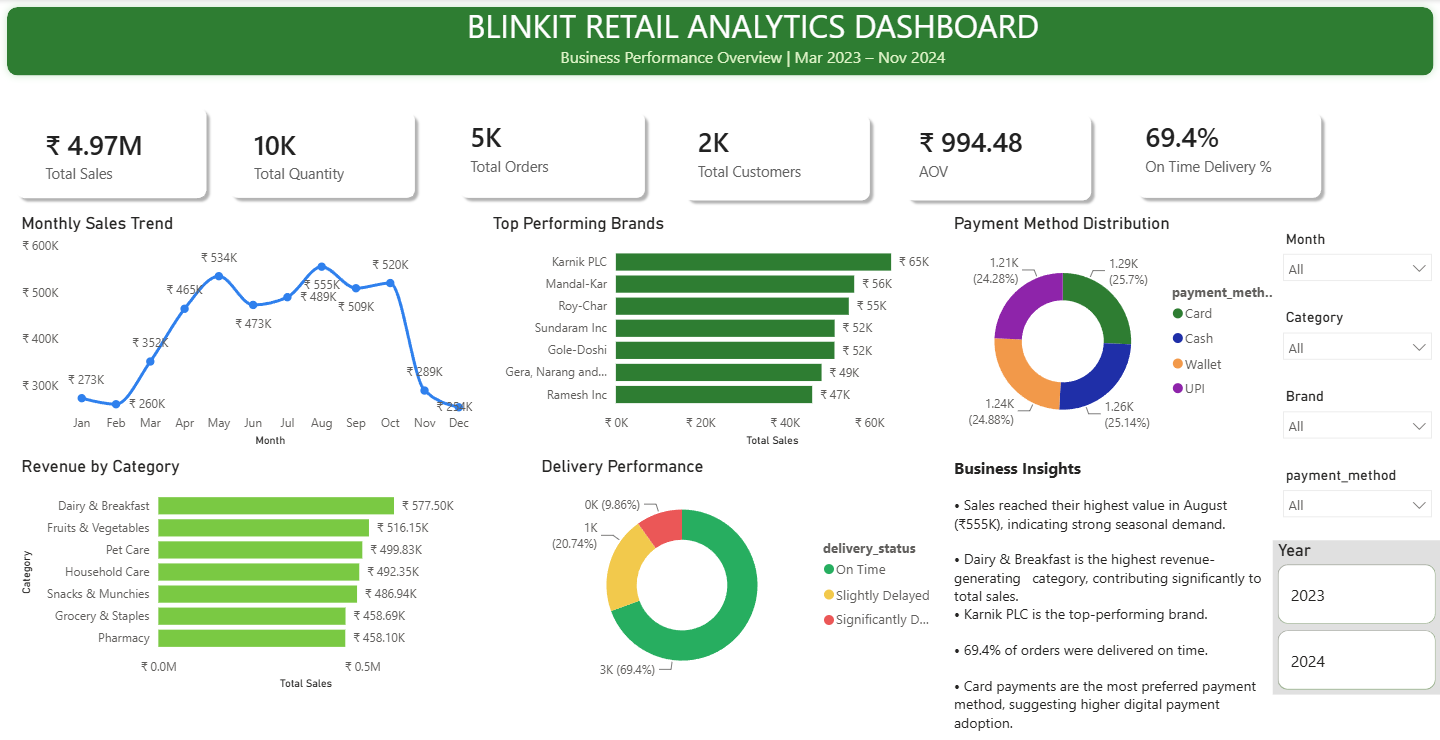

What the dashboard file says about the page in this screenshot:
{"tool":"powerbi","page":{"name":"Page 1","canvas":[1450,750],"ordinal":0},"visuals":[{"type":"shape","box":[904.9,109.3,200.2,100.1],"z":0},{"type":"shape","box":[682.3,109.3,200.2,100.1],"z":1000},{"type":"shape","box":[455.8,106.7,200.2,100.1],"z":2000},{"type":"shape","box":[225.2,106.7,200.2,100.1],"z":3000},{"type":"lineChart","title":"Monthly Sales Trend","fields":{"Y":["Measure Table (2).Total Sales"],"Category":["Calendar.Month"]},"box":[17.1,214.7,463.7,239.7],"z":4000},{"type":"clusteredBarChart","title":"Revenue by Category","fields":{"Y":["Measure Table (2).Total Sales"],"Category":["Order_Items.Category"]},"box":[17.1,459.7,463.7,239.7],"z":5000},{"type":"clusteredBarChart","title":"Top Performing Brands","fields":{"Y":["Measure Table (2).Total Sales"],"Category":["Order_Items.Brand"]},"box":[491.3,214.7,463.7,239.7],"z":6000},{"type":"donutChart","title":"Delivery Performance","fields":{"Category":["Orders.delivery_status"],"Y":["Measure Table (2).Total Orders"]},"box":[540.1,459.7,414.9,239.7],"z":7000},{"type":"donutChart","title":"Payment Method Distribution","fields":{"Category":["Orders.payment_method"],"Y":["CountNonNull(Orders.order_id)"]},"box":[955,214.7,337.2,239.7],"z":8000},{"type":"shape","box":[10.5,101.4,205.5,105.4],"z":9000},{"type":"cardVisual","fields":{"Data":["Measure Table (2).Total Sales"]},"box":[17.1,109.3,194.9,94.8],"z":10000},{"type":"cardVisual","fields":{"Data":["Measure Table (2).Total Customers"]},"box":[673.1,106.7,194.9,94.8],"z":11000},{"type":"cardVisual","fields":{"Data":["Measure Table (2).Total Orders"]},"box":[445,101.4,194.9,94.8],"z":12000},{"type":"cardVisual","fields":{"Data":["Measure Table (2).Total Quantity"]},"box":[227.9,109.3,194.9,94.8],"z":13000},{"type":"cardVisual","fields":{"Data":["Measure Table (2).Average Order Value"]},"box":[895.7,106.7,194.9,94.8],"z":14000},{"type":"shape","box":[1136.8,106.7,198.9,100.1],"z":15000},{"type":"cardVisual","fields":{"Data":["Measure Table (2).On Time Delivery %"]},"box":[1123.6,101.4,194.9,94.8],"z":16000},{"type":"slicer","fields":{"Values":["Calendar.Month"]},"box":[1280.3,227.9,169.9,79],"z":17000},{"type":"slicer","fields":{"Values":["Order_Items.Category"]},"box":[1280.3,306.9,169.9,79],"z":18000},{"type":"slicer","fields":{"Values":["Order_Items.Brand"]},"box":[1280.3,385.9,169.9,79],"z":19000},{"type":"slicer","fields":{"Values":["Orders.payment_method"]},"box":[1280.3,465,169.9,79],"z":20000},{"type":"textbox","box":[955,454.4,325.4,295.1],"z":21000},{"type":"advancedSlicerVisual","fields":{"Values":["Calendar.Year"]},"box":[1280.3,544,169.9,155.4],"z":22000},{"type":"shape","box":[0,0,1450.3,85],"z":23000},{"type":"textbox","box":[83,0,1350.2,85.6],"z":24000}]}

Visuals, with their boxes in screenshot pixels (x1, y1, x2, y2), scaled from the page's 1450x750 canvas onto the 1440x740 screenshot:
shape: detection(899, 108, 1097, 207)
shape: detection(678, 108, 876, 207)
shape: detection(453, 105, 651, 204)
shape: detection(224, 105, 422, 204)
"Monthly Sales Trend" lineChart: detection(17, 212, 477, 448)
"Revenue by Category" clusteredBarChart: detection(17, 454, 477, 690)
"Top Performing Brands" clusteredBarChart: detection(488, 212, 948, 448)
"Delivery Performance" donutChart: detection(536, 454, 948, 690)
"Payment Method Distribution" donutChart: detection(948, 212, 1283, 448)
shape: detection(10, 100, 215, 204)
cardVisual - Measure Table (2).Total Sales: detection(17, 108, 211, 201)
cardVisual - Measure Table (2).Total Customers: detection(668, 105, 862, 199)
cardVisual - Measure Table (2).Total Orders: detection(442, 100, 635, 194)
cardVisual - Measure Table (2).Total Quantity: detection(226, 108, 420, 201)
cardVisual - Measure Table (2).Average Order Value: detection(890, 105, 1083, 199)
shape: detection(1129, 105, 1326, 204)
cardVisual - Measure Table (2).On Time Delivery %: detection(1116, 100, 1309, 194)
slicer - Calendar.Month: detection(1271, 225, 1439, 303)
slicer - Order_Items.Category: detection(1271, 303, 1439, 381)
slicer - Order_Items.Brand: detection(1271, 381, 1439, 459)
slicer - Orders.payment_method: detection(1271, 459, 1439, 537)
textbox: detection(948, 448, 1272, 739)
advancedSlicerVisual - Calendar.Year: detection(1271, 537, 1439, 690)
shape: detection(0, 0, 1439, 84)
textbox: detection(82, 0, 1423, 84)
